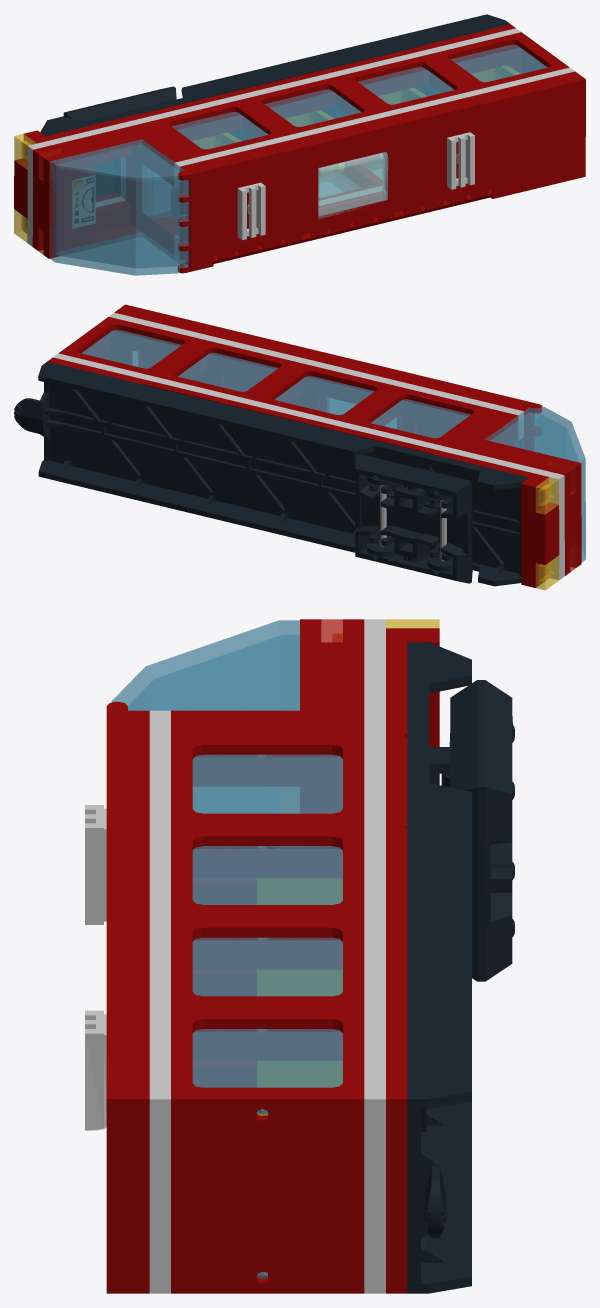
The model's file is rear-coach.glb.
The picture shows the model from 3 angles, top to bottom: view 1: azimuth 30°, elevation 25°; view 2: azimuth 150°, elevation 25°; view 3: azimuth 270°, elevation 25°; orthographic projection. The views are drawn at different scales.
Size of the model in its own units: 176 by 32.51 by 64.
